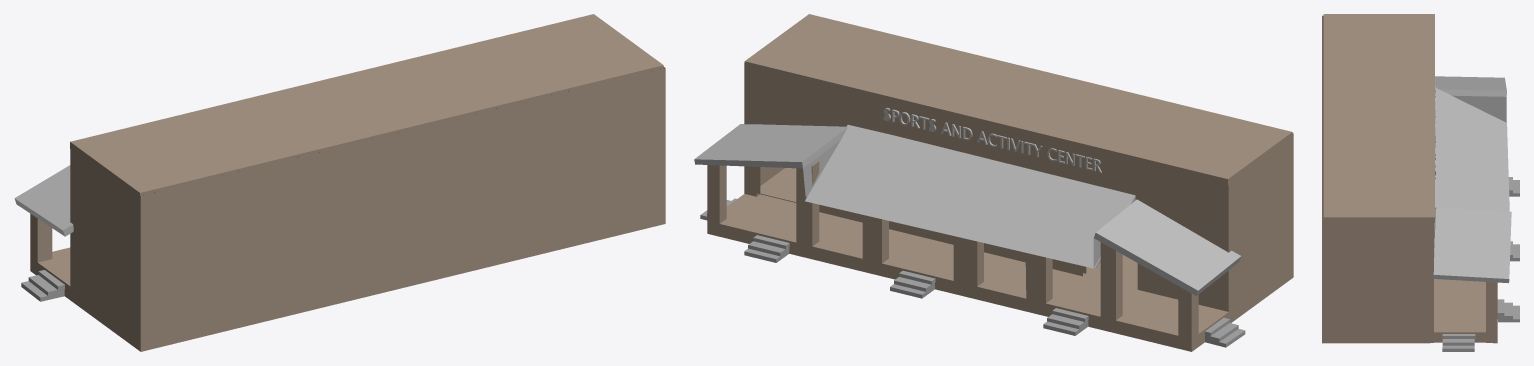
The model's file is SportsBuilding.fbx.
3 renders of one model, left to right at view 1: azimuth 30°, elevation 25°; view 2: azimuth 150°, elevation 25°; view 3: azimuth 270°, elevation 25°, orthographic. The views are drawn at different scales.
Parts seen in each view (by area): view 1: pCube17; view 2: pCube17; view 3: pCube17.
Boxes of the visible parts, x1,y1,x2,y2 form: pCube17: [14, 14, 665, 351]; pCube17: [694, 14, 1293, 351]; pCube17: [1322, 14, 1519, 351].
Bounding box in the file's own units: 1337 × 354 × 504.
